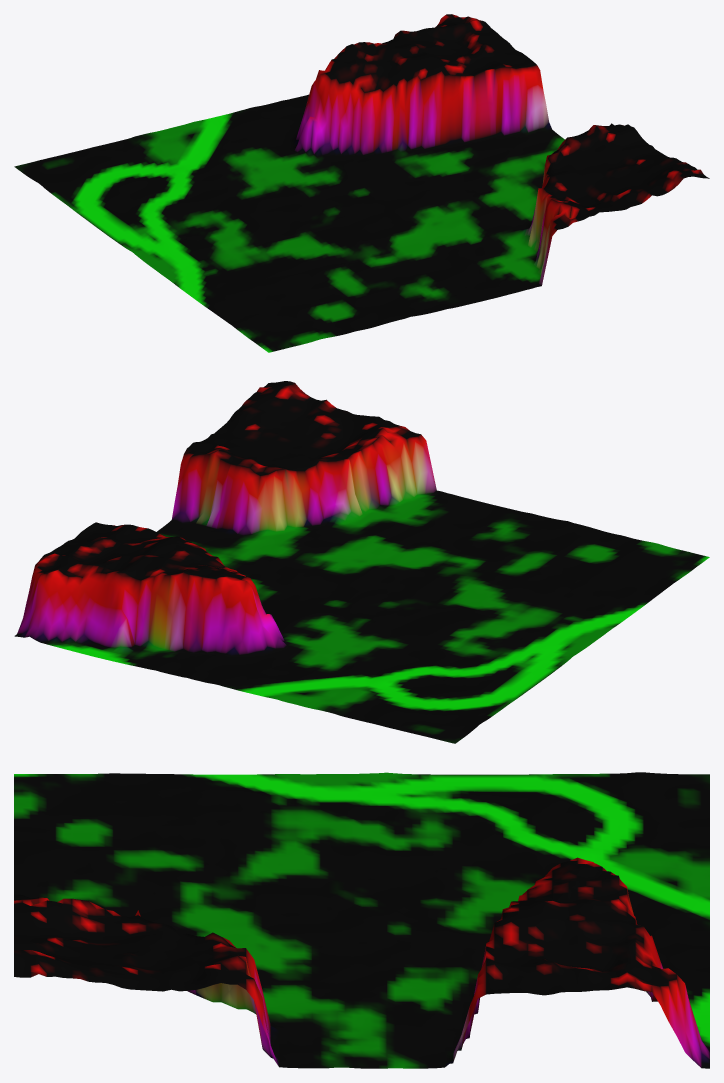
Rendered from SM_AlUla_Terrain_2_1.fbx.
3 renders of one model, top to bottom at view 1: azimuth 30°, elevation 25°; view 2: azimuth 150°, elevation 25°; view 3: azimuth 270°, elevation 25°, orthographic. The views are drawn at different scales.
Parts seen in each view (by area): view 1: SM_AlUla_Terrain_2_1; view 2: SM_AlUla_Terrain_2_1; view 3: SM_AlUla_Terrain_2_1.
Part boxes in pixels (box(x1,y1,x2,y2)): SM_AlUla_Terrain_2_1: box(14, 14, 709, 352); SM_AlUla_Terrain_2_1: box(14, 381, 709, 743); SM_AlUla_Terrain_2_1: box(14, 772, 709, 1068).
Bounding box in the file's own units: 50400 × 8188 × 50400.
